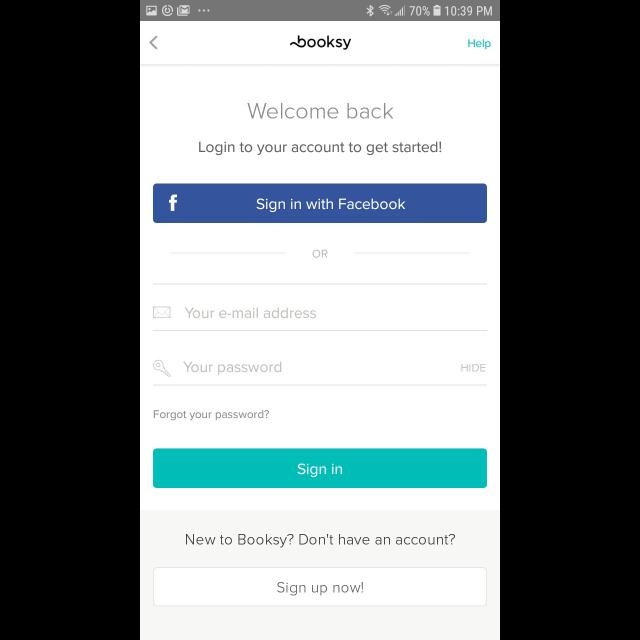icon: (153, 306, 171, 318), (150, 36, 158, 50)
image: (290, 36, 352, 50), (153, 359, 171, 376)
input: (152, 306, 488, 332), (153, 360, 487, 386)
text: (187, 534, 456, 548), (199, 141, 441, 155), (248, 103, 394, 119), (184, 361, 282, 375), (184, 308, 316, 318), (154, 411, 270, 422), (468, 39, 492, 50), (462, 364, 486, 372), (312, 250, 328, 258)
textbutton: (153, 566, 487, 606), (153, 448, 487, 488), (153, 184, 487, 224)
uppertaskbar: (140, 1, 500, 22)
